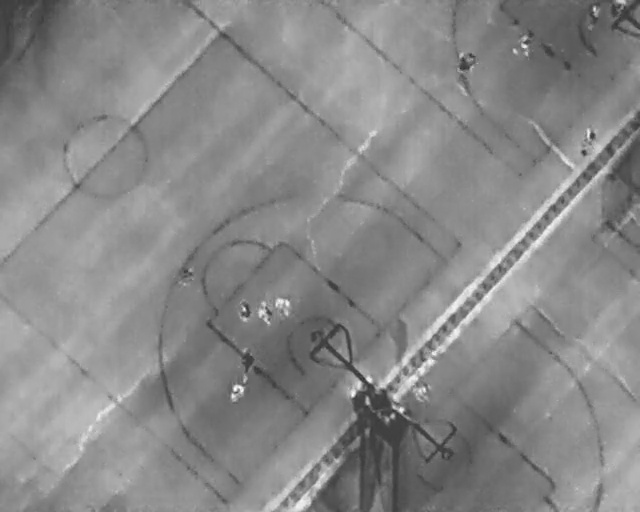Person: (456, 51, 475, 74), (257, 297, 271, 326), (276, 295, 291, 322), (241, 346, 255, 373), (516, 32, 530, 57), (591, 1, 601, 32), (230, 384, 246, 403), (584, 124, 596, 148), (240, 298, 251, 323)
